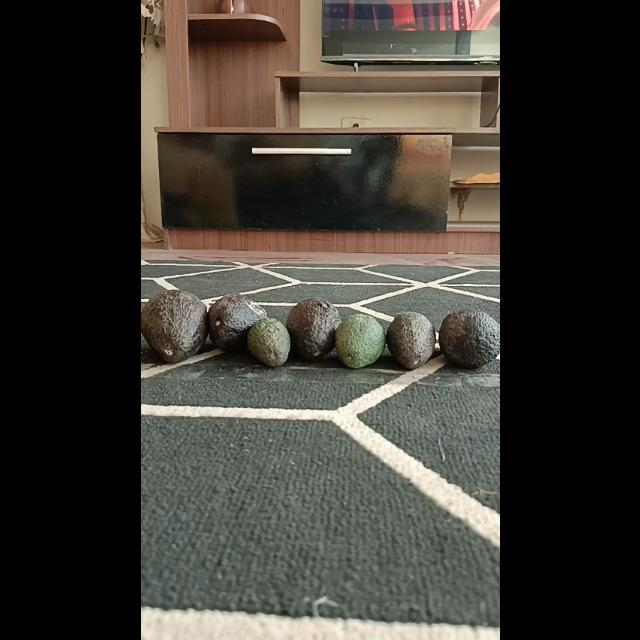Primera: (140, 290, 206, 362), (438, 308, 498, 368), (206, 294, 266, 352), (285, 298, 339, 360)
Segunda: (386, 311, 436, 369), (334, 314, 386, 368)
Tercera: (246, 318, 290, 367)
